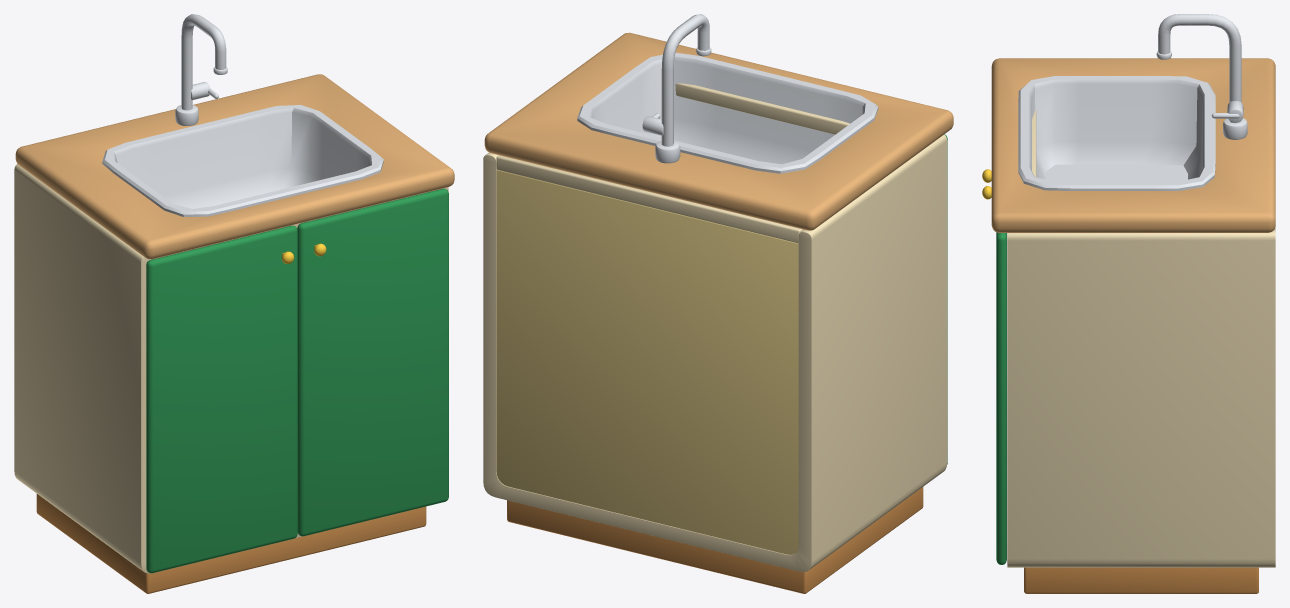
The model's file is armario_cozinha_pia_creme.glb.
3 renders of one model, left to right at view 1: azimuth 30°, elevation 25°; view 2: azimuth 150°, elevation 25°; view 3: azimuth 270°, elevation 25°, orthographic. The views are drawn at different scales.
Visible parts, largest first — view 1: armario_cozinha_pia_creme, porta_1, porta_2; view 2: armario_cozinha_pia_creme; view 3: armario_cozinha_pia_creme, porta_2.
Part boxes in pixels (<box>): armario_cozinha_pia_creme: <box>14,14,454,593</box>; porta_1: <box>146,225,297,573</box>; porta_2: <box>297,188,448,536</box>; armario_cozinha_pia_creme: <box>483,14,953,593</box>; armario_cozinha_pia_creme: <box>991,14,1275,593</box>; porta_2: <box>982,186,1006,564</box>.
Bounding box in the file's own units: 0.798 × 1.18 × 0.619.
Materials: 1 (1 with a texture image).
